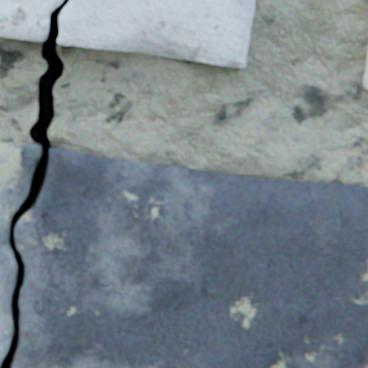brick: (361, 42, 367, 89)
broken_brick: (11, 148, 367, 367), (57, 0, 253, 67), (0, 141, 41, 364), (0, 0, 63, 41)
crack: (0, 0, 67, 367)
